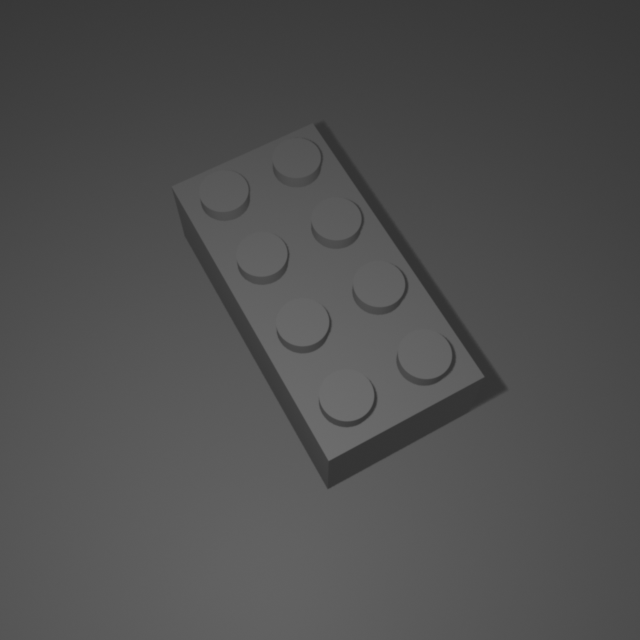lego_2x4: (169, 113, 488, 489)
